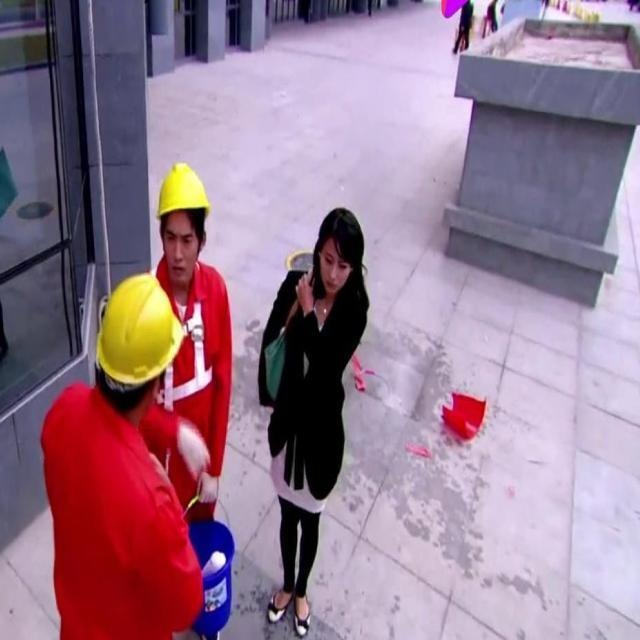Arnes_seguridad: (145, 254, 217, 412)
